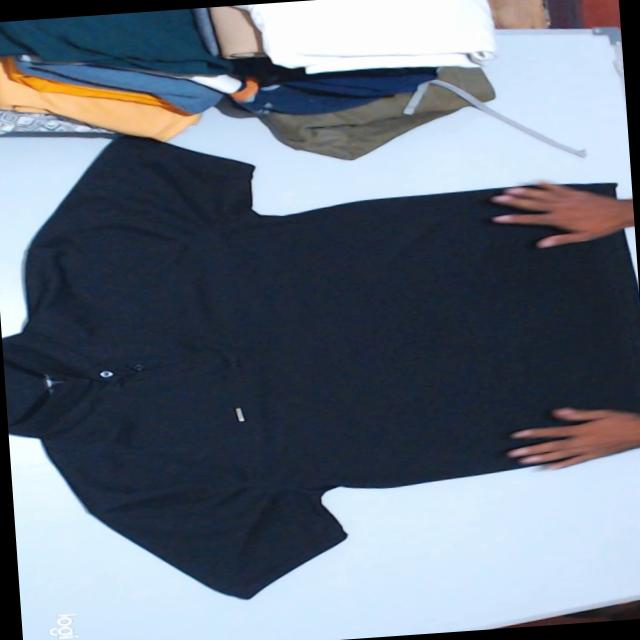new-garment: (1, 138, 640, 598)
